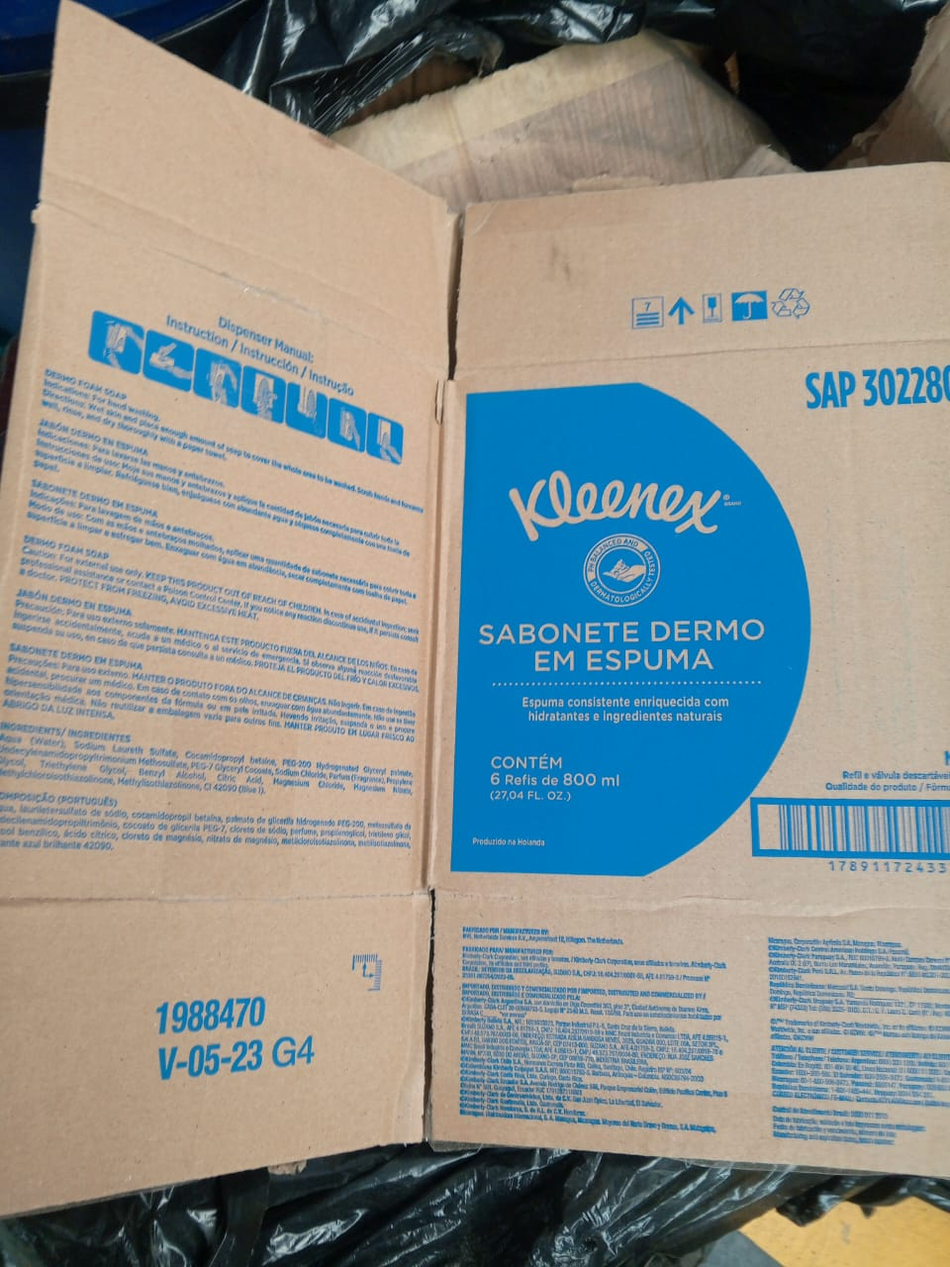Carton: (2, 2, 949, 1214)
